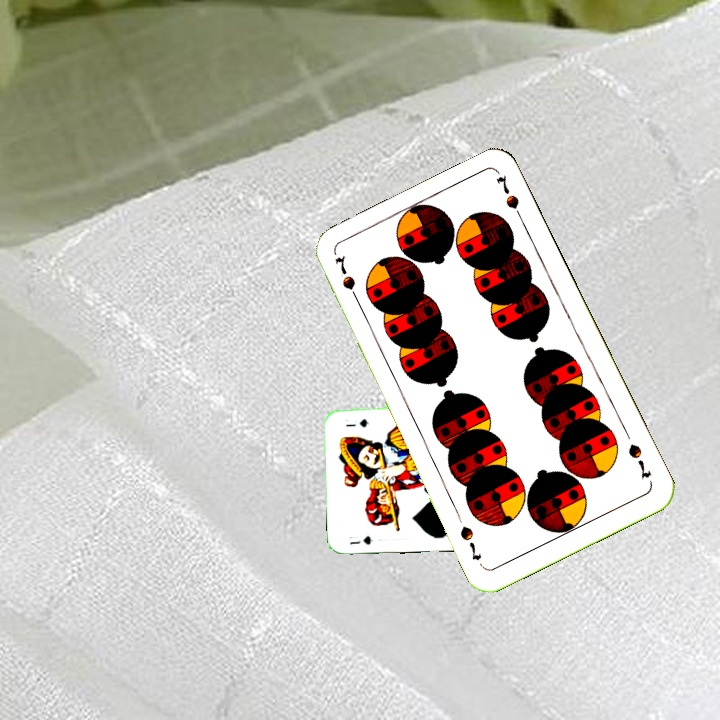GU: (345, 532, 375, 547)
S7: (331, 251, 363, 307), (624, 439, 654, 482)
